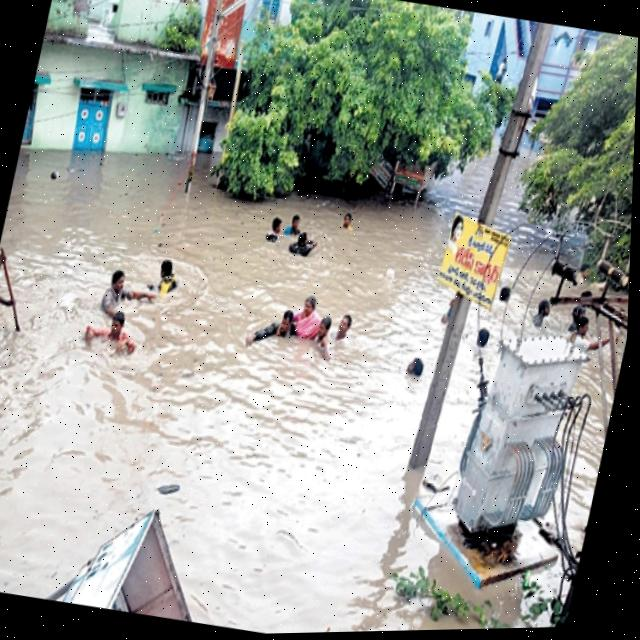civilian: (92, 259, 163, 333), (82, 295, 145, 372), (240, 294, 302, 363), (143, 247, 186, 307), (305, 304, 341, 362), (292, 288, 319, 342), (332, 305, 354, 361), (290, 224, 318, 265), (263, 214, 284, 248), (401, 354, 426, 382), (337, 208, 360, 232), (284, 208, 302, 233)
